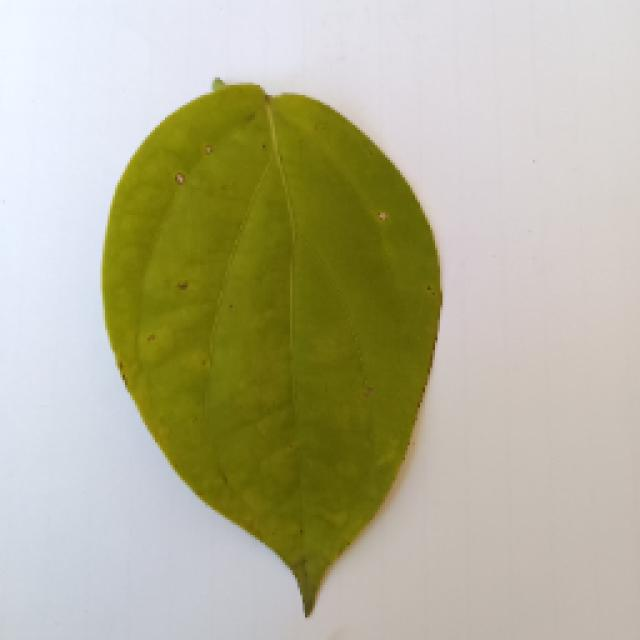slow-decline: (80, 78, 458, 620)
